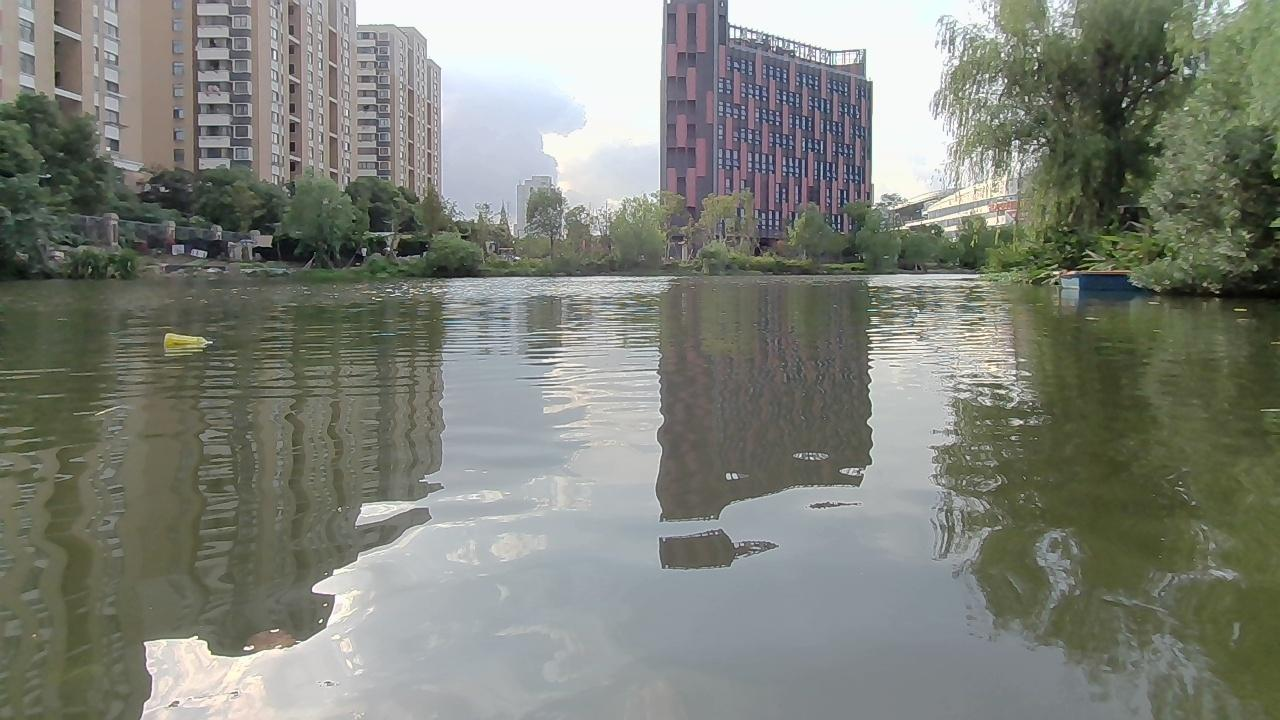bottle: (160, 327, 217, 351)
